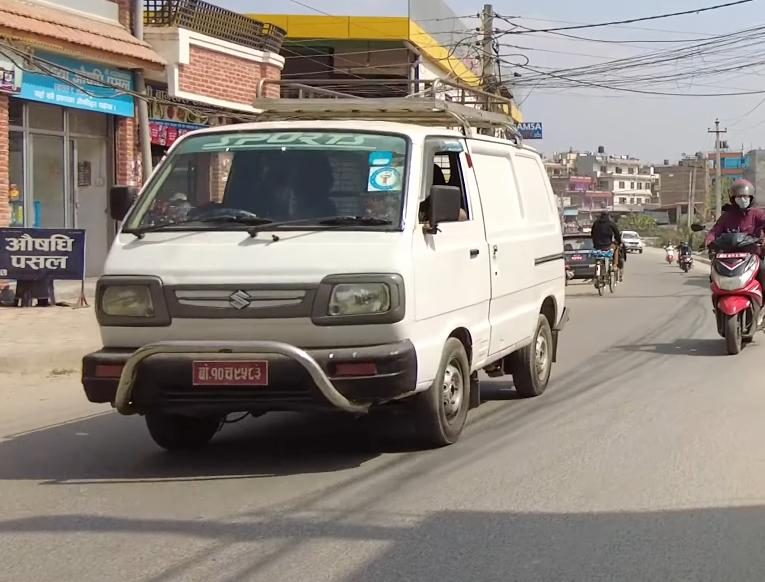car: (562, 229, 606, 281)
scooter: (685, 212, 765, 357)
van: (59, 64, 572, 468)
